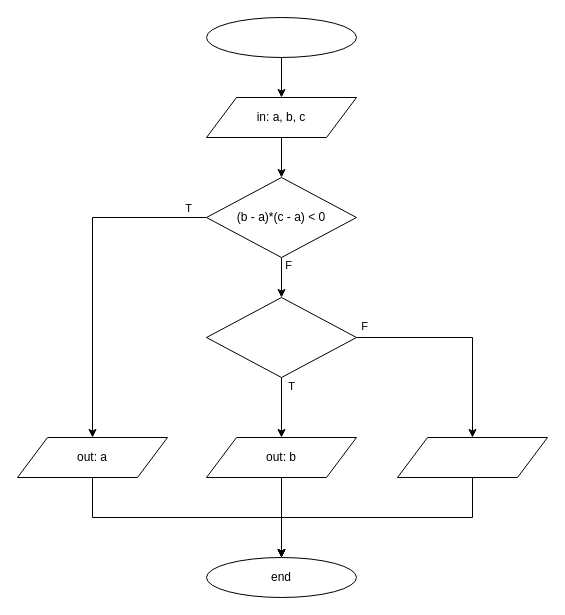
This 565x615 diagram has some shape labels left out. Each missing label, with the centre of its shape:
"(a - b)*(c - b) < 0" belongs at (281,337).
"out: c" belongs at (472,457).
"start" belongs at (281,37).
